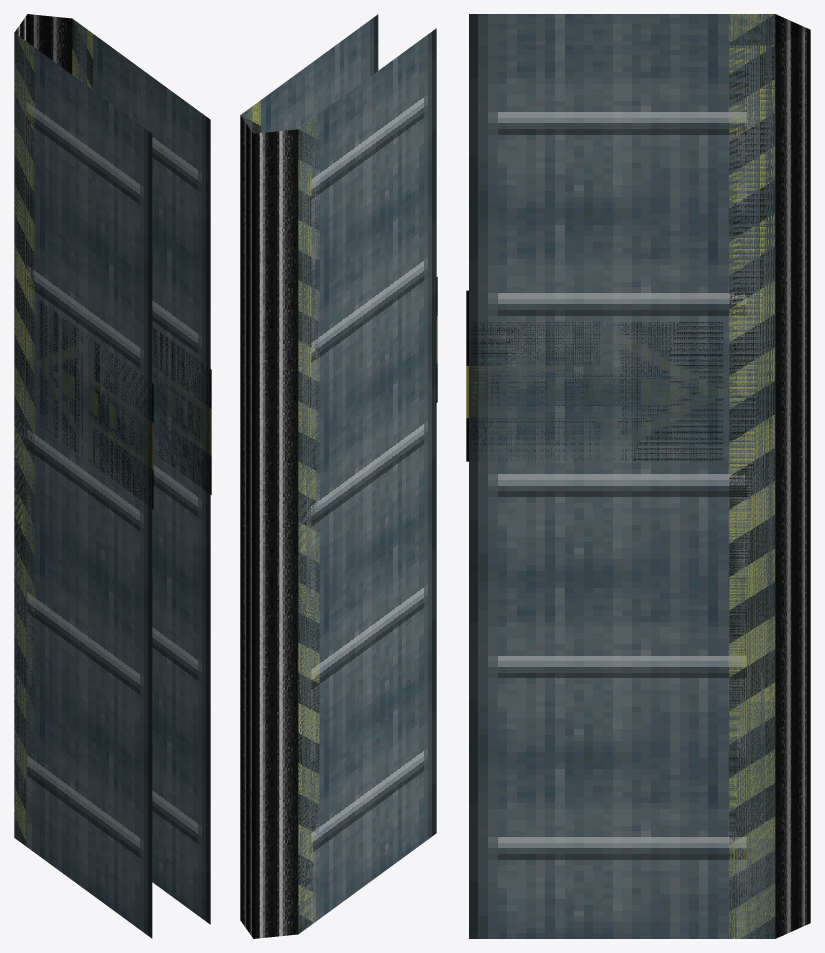
The model's file is primary_142.glb.
3 views of the same model, side by side, from view 1: azimuth 30°, elevation 25°; view 2: azimuth 150°, elevation 25°; view 3: azimuth 270°, elevation 25° (orthographic). The views are drawn at different scales.
Visible parts, largest first — view 1: Object; view 2: Object; view 3: Object.
Boxes of the visible parts, x1,y1,x2,y2 form: Object: [14, 14, 211, 938]; Object: [240, 14, 437, 938]; Object: [466, 14, 810, 938].
Bounding box in the file's own units: 0.1814 × 2.4 × 0.8389.
7 materials, 7 textured.
